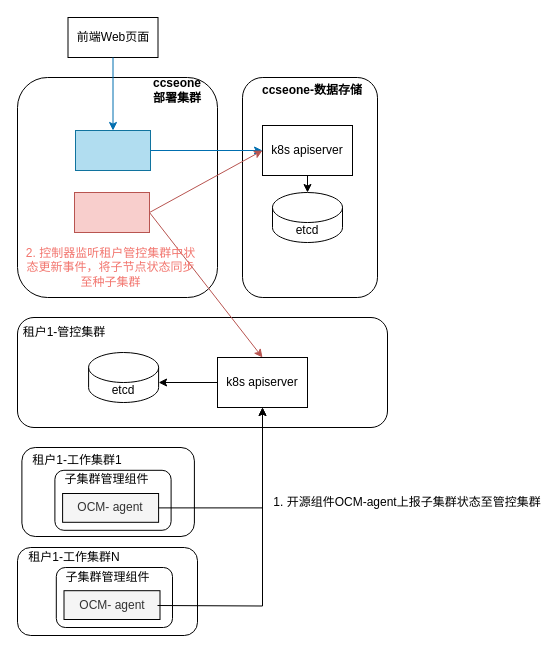
Some shapes in this 560 by 653 pixel diagram are drawn without their labels. Each missing label, with the box of its shape:
ccseone-apiserver: (74, 130, 150, 170)
ccseone-controller: (74, 192, 150, 232)
